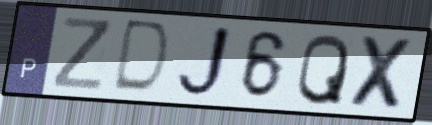6: (236, 29, 290, 102)
D: (108, 17, 174, 98)
J: (173, 22, 236, 102)
Q: (294, 31, 353, 107)
X: (346, 33, 418, 114)
Z: (51, 15, 114, 93)
